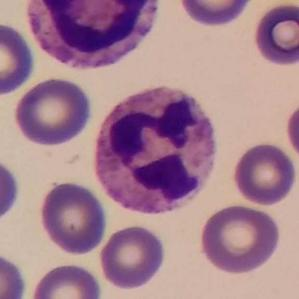Neutrophil: (86, 79, 226, 224), (18, 0, 169, 78)
RBC: (196, 202, 283, 276), (11, 75, 95, 148), (36, 179, 109, 257), (97, 222, 168, 292), (230, 140, 298, 207), (250, 1, 299, 68), (28, 260, 104, 299), (0, 20, 37, 98), (176, 0, 258, 29), (0, 153, 22, 227), (0, 250, 29, 298), (283, 98, 299, 165)
